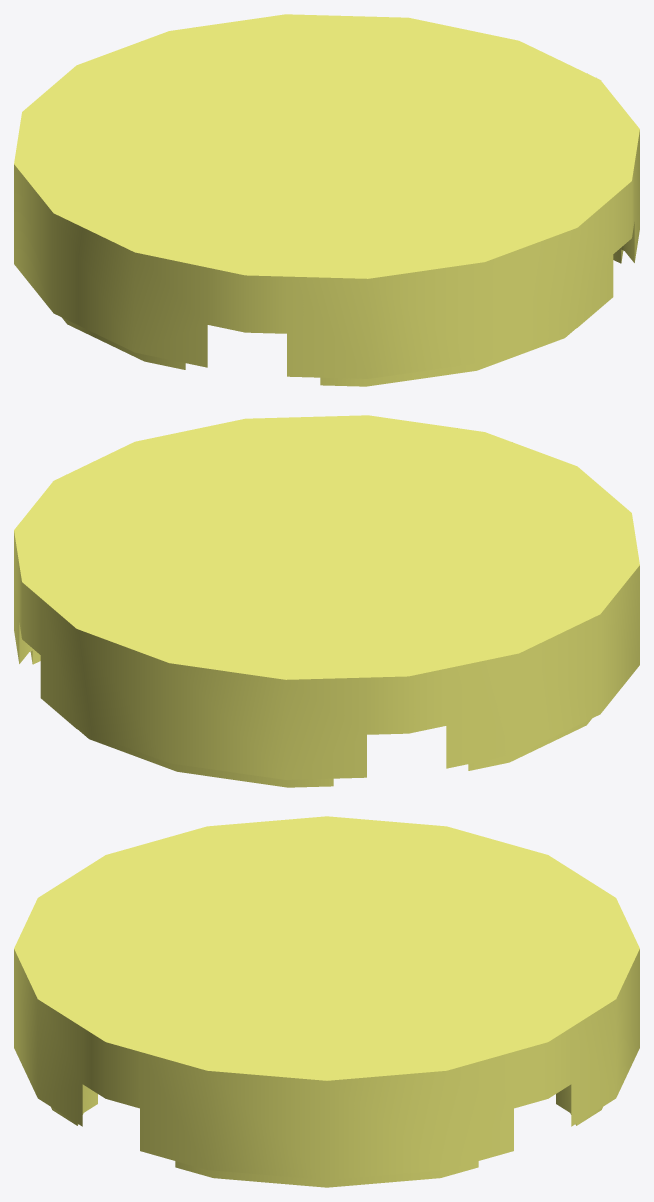
The picture shows the model from 3 angles, top to bottom: view 1: azimuth 30°, elevation 25°; view 2: azimuth 150°, elevation 25°; view 3: azimuth 270°, elevation 25°; orthographic projection.
Visible parts, largest first — view 1: 14769.dat; view 2: 14769.dat; view 3: 14769.dat.
Part boxes in pixels (x1,y1,x2,y2): 14769.dat: (14, 14, 639, 386); 14769.dat: (14, 415, 639, 787); 14769.dat: (14, 816, 639, 1187).
Bounding box in the file's own units: 0.016 × 0.0032 × 0.016.
